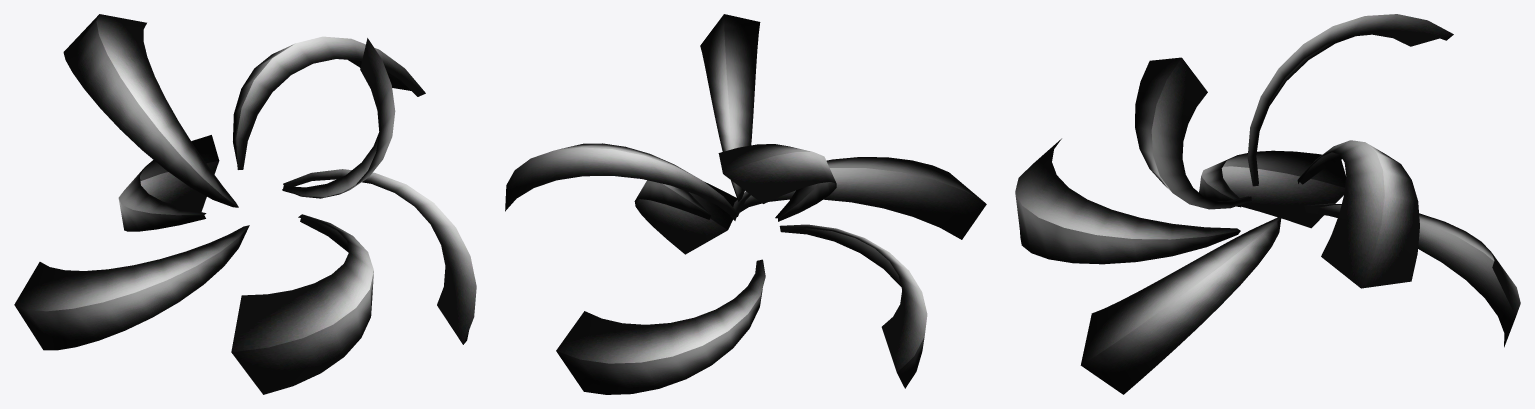
File: vfx_kurp_0656.dae
The picture shows the model from 3 angles, left to right: view 1: azimuth 30°, elevation 25°; view 2: azimuth 150°, elevation 25°; view 3: azimuth 270°, elevation 25°; orthographic projection. The views are drawn at different scales.
Parts seen in each view (by area): view 1: vfx_kurp_0656; view 2: vfx_kurp_0656; view 3: vfx_kurp_0656.
Part boxes in pixels (x1,y1,x2,y2): vfx_kurp_0656: (14,14,476,394); vfx_kurp_0656: (505,14,986,394); vfx_kurp_0656: (1015,14,1520,394).
Size of the model in its own units: 12.6 by 12.97 by 8.56.
Materials: 1 (1 with a texture image).
